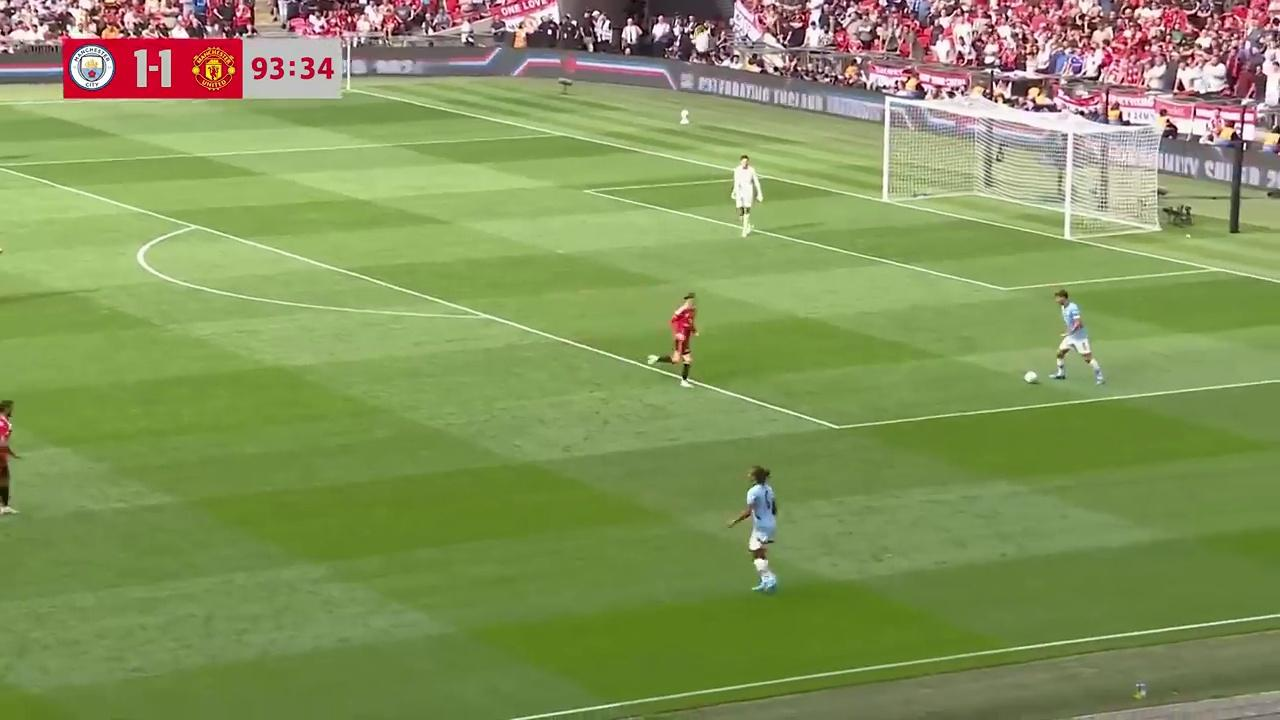ball: (1022, 366, 1039, 384)
player: (724, 465, 779, 591), (1049, 290, 1104, 383), (668, 292, 700, 387), (731, 151, 764, 238), (0, 399, 19, 515)
